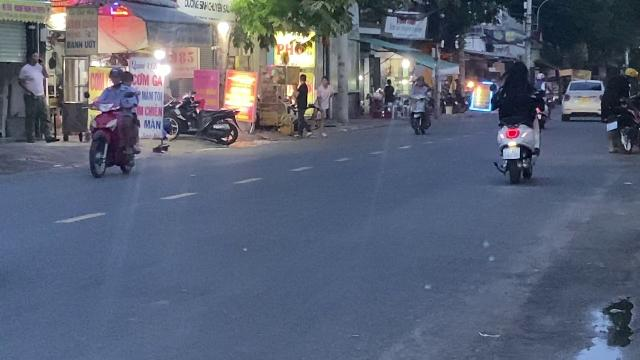helmet: (108, 66, 124, 86)
licenseplate: (503, 148, 519, 158)
motorcyclist: (492, 54, 542, 184), (86, 66, 142, 178)
nohelmet: (502, 57, 532, 97)
